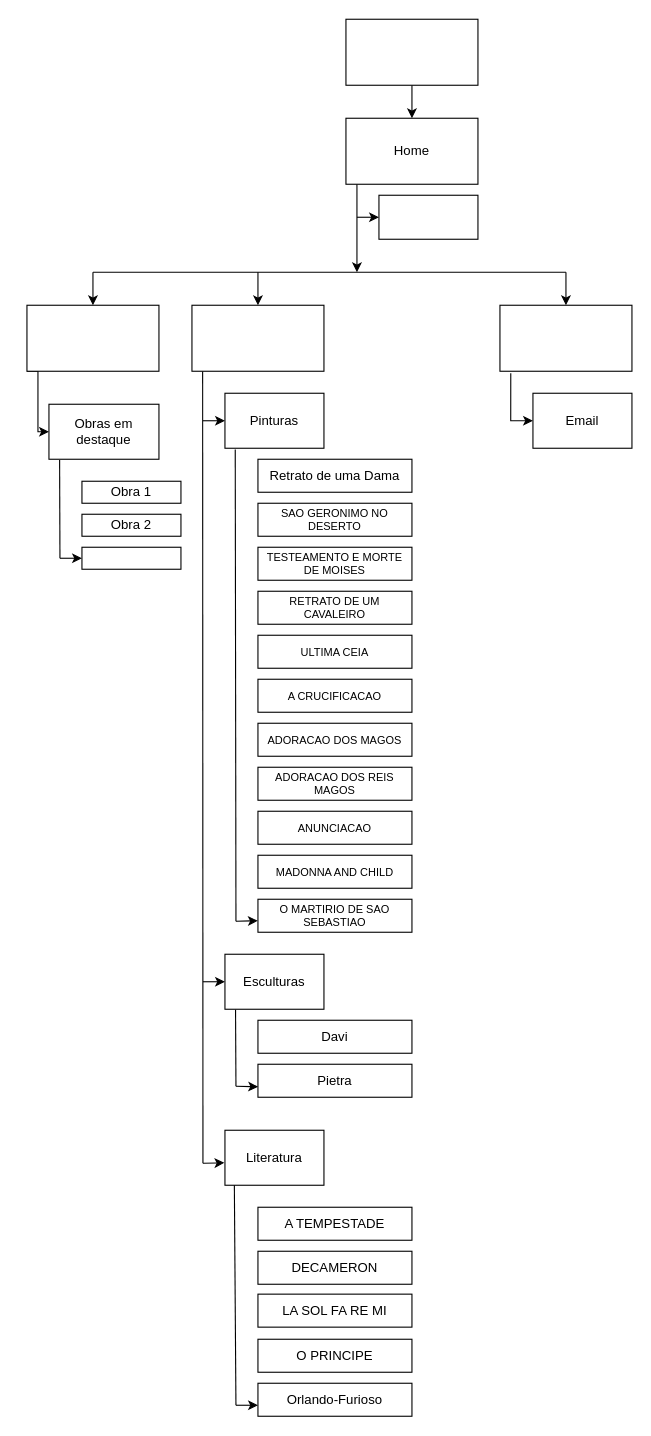
The diagram is 651 pixels wide and 1436 high, and some of its shapes have lost their labels. The shapes that lost their labels are listed below. From the top down, each one's centre as x and y in pixels, then its label:
At (411,51): "Collectors".
At (428,216): "About".
At (92,337): "Highlights".
At (257,337): "Gallery".
At (565,337): "Contact".
At (131,557): "Obra 3".
